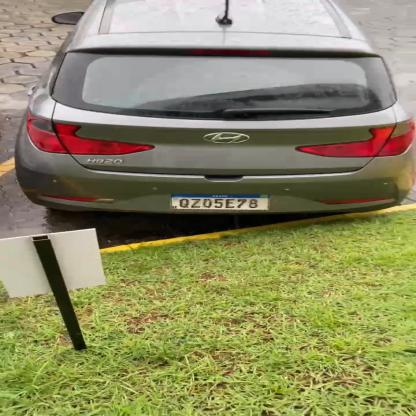Plate: (169, 190, 275, 214)
